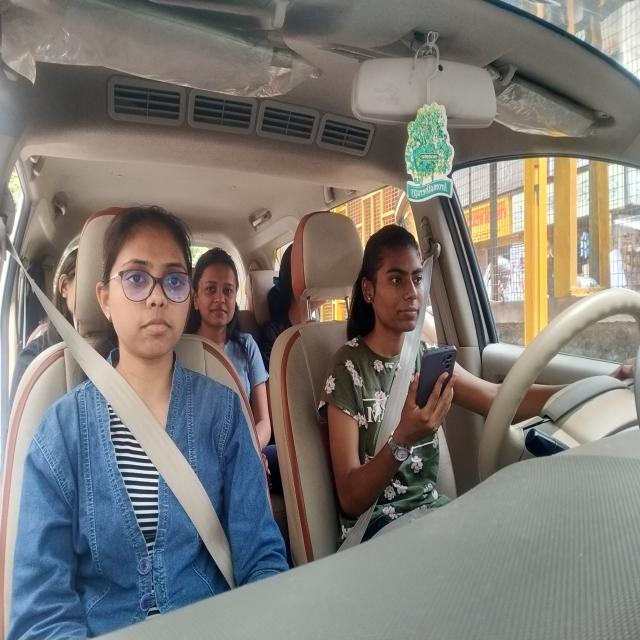mobile: (410, 342, 469, 436)
person: (98, 202, 196, 389), (353, 220, 434, 340), (202, 244, 246, 357)
